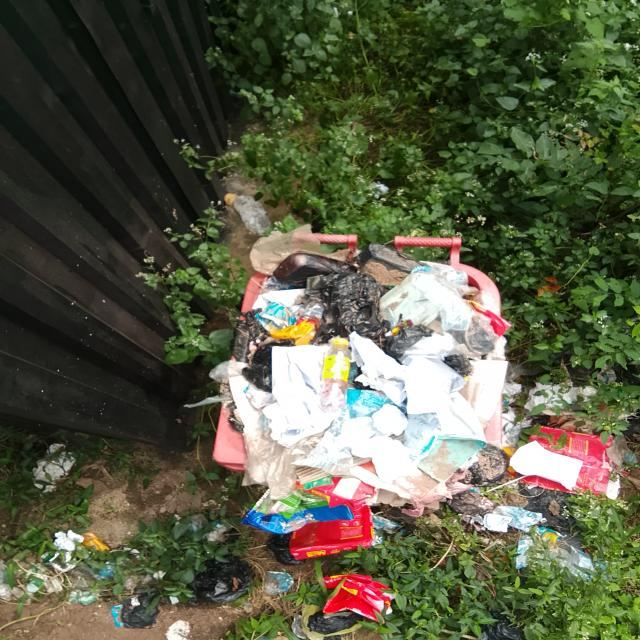overflowing: (216, 249, 497, 490)
